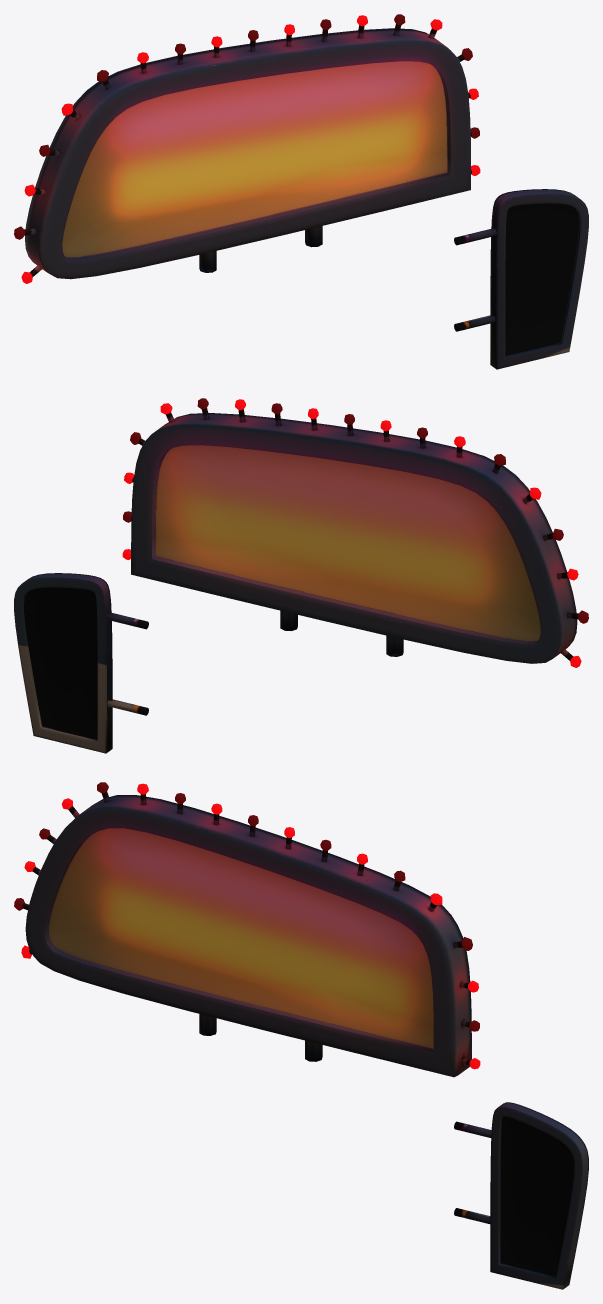
File: sign1.glb
The picture shows the model from 3 angles, top to bottom: view 1: azimuth 30°, elevation 25°; view 2: azimuth 150°, elevation 25°; view 3: azimuth 330°, elevation 25°; orthographic projection.
Visible parts, largest first — view 1: Sign Small; view 2: Sign Small; view 3: Sign Small.
Boxes of the visible parts, x1,y1,x2,y2 form: Sign Small: (14, 14, 588, 369); Sign Small: (14, 398, 588, 753); Sign Small: (14, 782, 588, 1289).
Bounding box in the file's own units: 3.3 × 2.21 × 0.175.
Materials: 3 (1 with a texture image).
